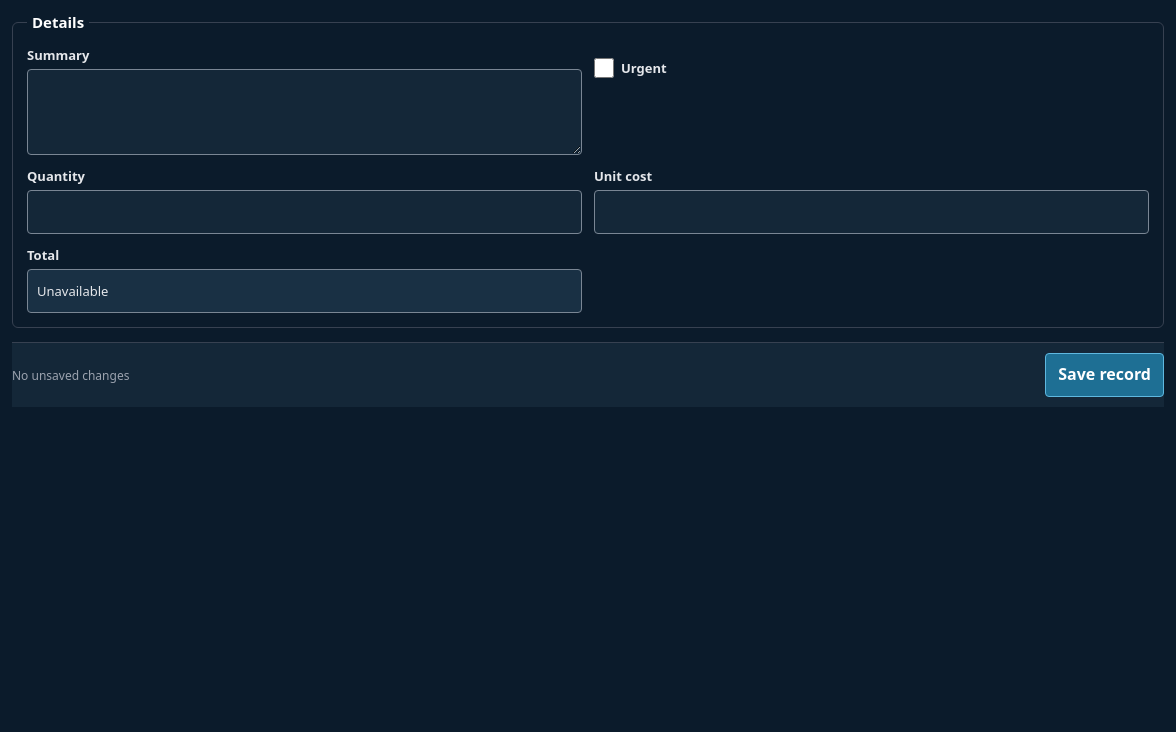
Test case: draft hydration and submission truth › preserves values and draft after a rejected submission
This screenshot has width=1176, height=732.
Type "Generator request" into the text box labelled "Summary" at [304, 112], box [27, 69, 582, 155]
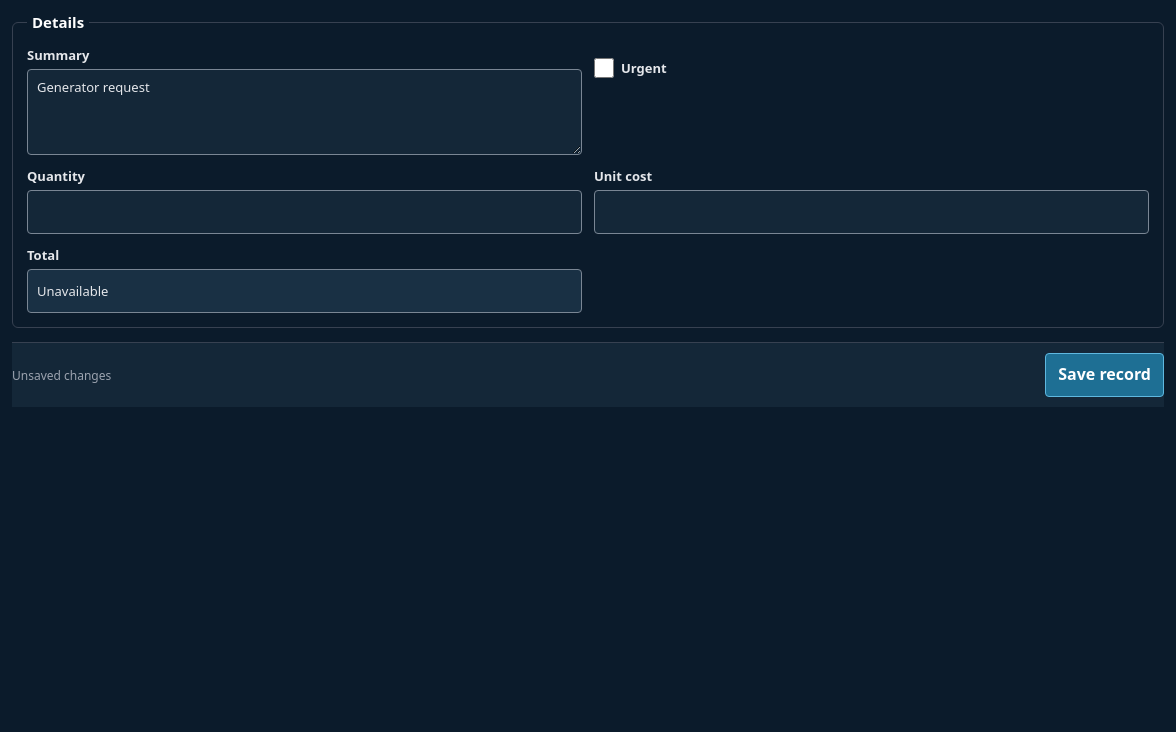
Type "4" into the number field labelled "Quantity" at [304, 212], box [27, 190, 582, 234]
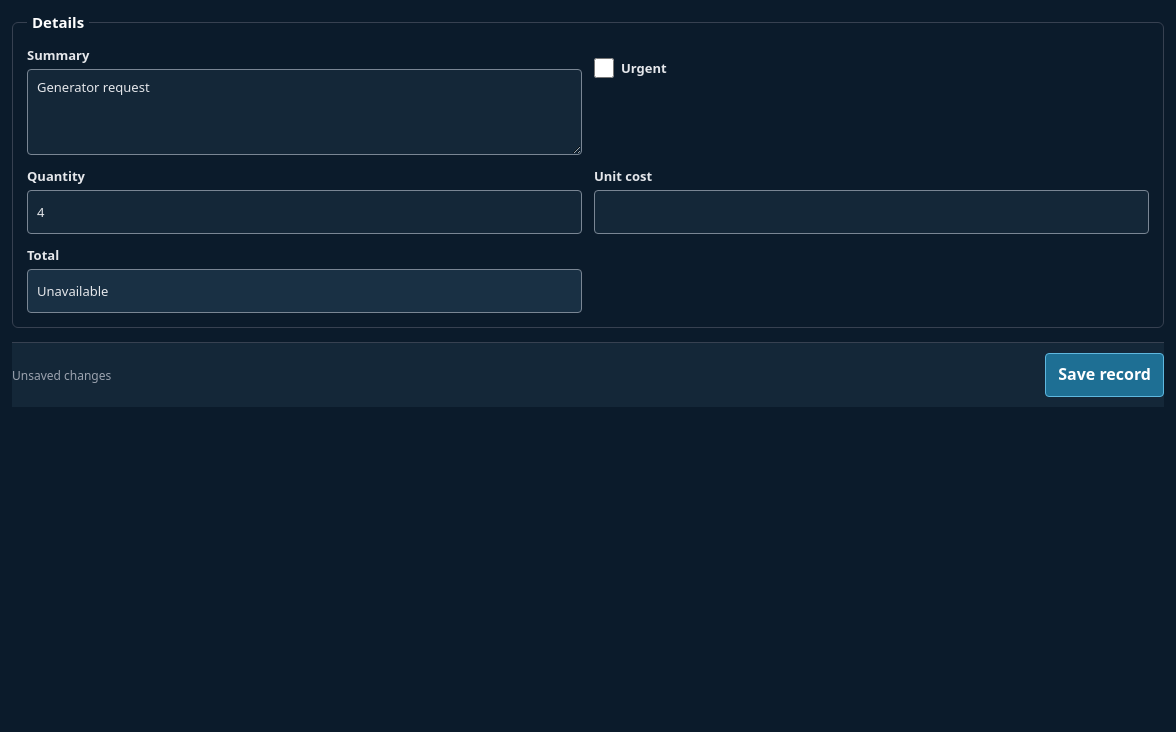
Click the button "Save record" at [1105, 375], box [1045, 353, 1164, 397]
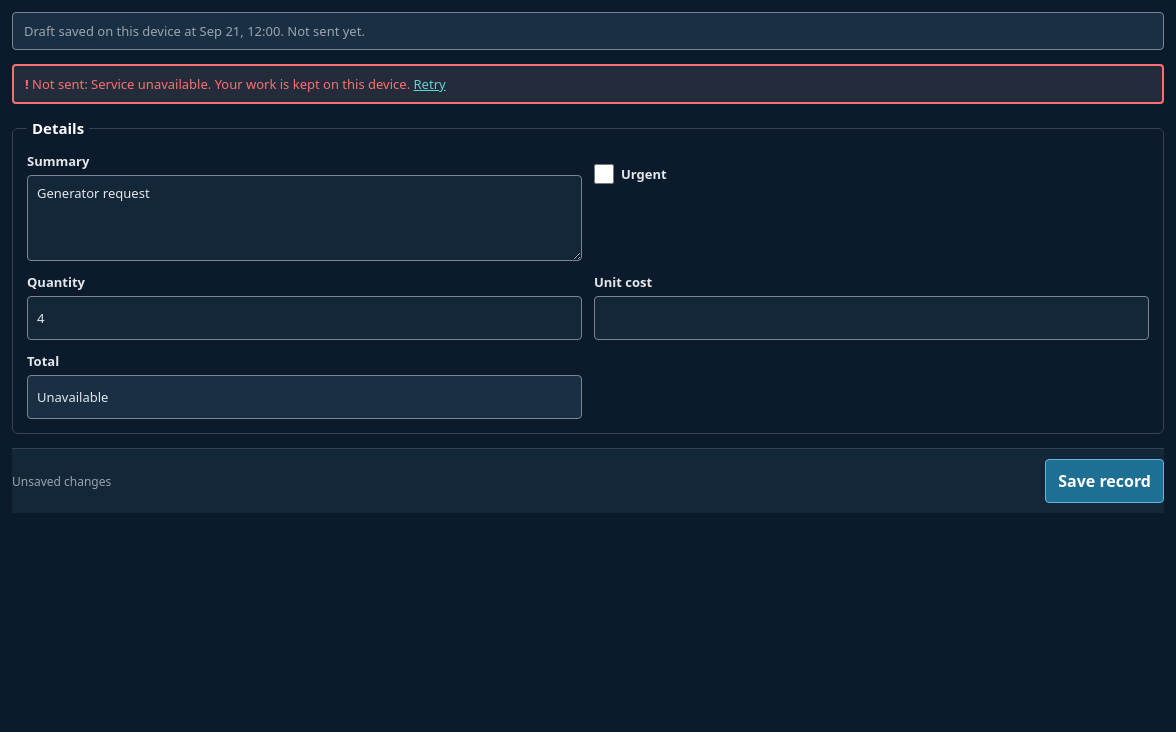
Check: the message "Not sent: Service unavailable. Your work is kept on this device. Retry" is shown, box [12, 64, 1164, 104]
